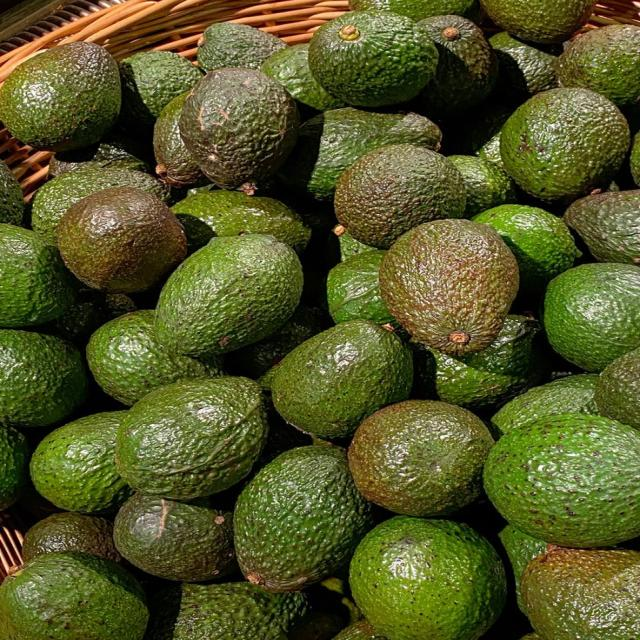avocado: (484, 414, 639, 547), (234, 446, 373, 592), (350, 517, 506, 639), (380, 220, 519, 355), (116, 377, 267, 500), (156, 235, 302, 357), (348, 400, 493, 516), (272, 320, 413, 439), (180, 69, 299, 195), (280, 107, 441, 200), (500, 89, 629, 202), (334, 145, 466, 248), (57, 187, 186, 292), (0, 42, 120, 151), (0, 551, 148, 639), (87, 310, 222, 405), (309, 11, 438, 106), (424, 316, 546, 411), (521, 547, 639, 639), (31, 168, 172, 244), (543, 263, 639, 372), (114, 494, 234, 581), (31, 412, 131, 514), (474, 205, 580, 295), (145, 582, 307, 639), (172, 190, 310, 254), (0, 330, 88, 427), (226, 305, 326, 390), (418, 16, 497, 117), (0, 224, 76, 328), (556, 25, 639, 108), (490, 374, 598, 437), (119, 51, 202, 130), (260, 44, 346, 116), (564, 190, 639, 264), (43, 289, 136, 348), (48, 129, 152, 178), (154, 92, 207, 186), (489, 32, 562, 100), (327, 250, 394, 324), (480, 0, 595, 43), (22, 513, 121, 562), (447, 98, 515, 168), (448, 156, 517, 218), (198, 23, 286, 71), (499, 524, 546, 609), (595, 349, 639, 429), (349, 0, 479, 20), (0, 423, 29, 510), (0, 162, 24, 225), (333, 225, 376, 260), (334, 620, 387, 639), (630, 133, 639, 186)
